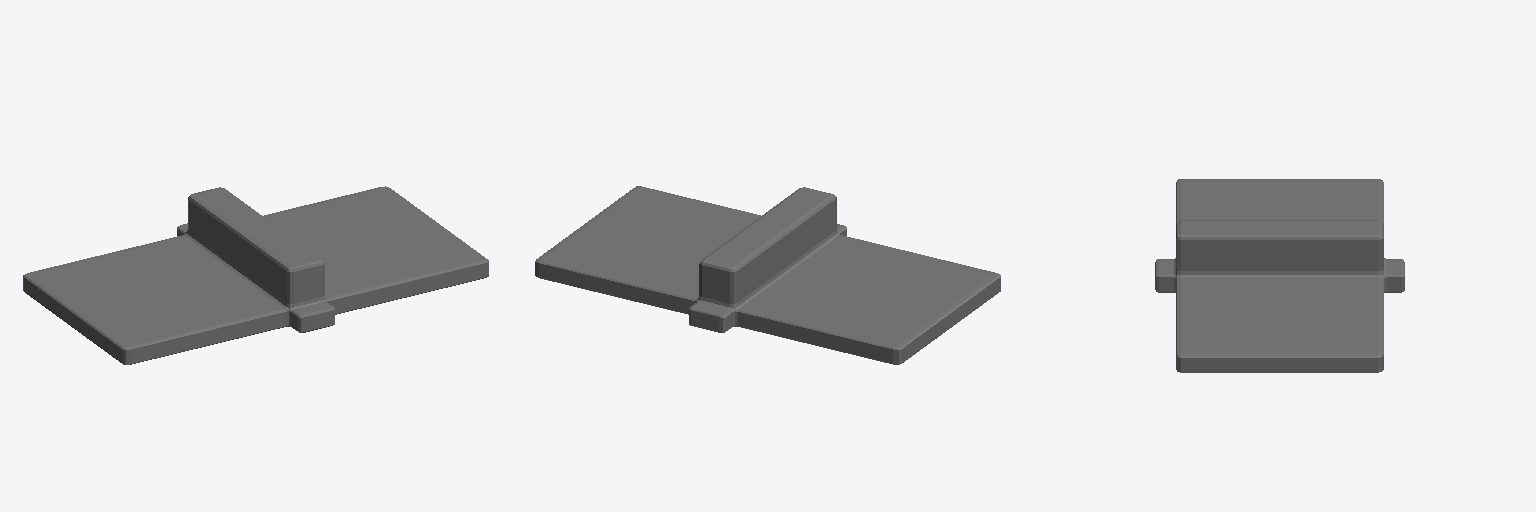
Rendered from container.obj.
3 views of the same model, side by side, from view 1: azimuth 30°, elevation 25°; view 2: azimuth 150°, elevation 25°; view 3: azimuth 270°, elevation 25° (orthographic).
Parts seen in each view (by area): view 1: pCube1; view 2: pCube1; view 3: pCube1.
Boxes of the visible parts, x1,y1,x2,y2 form: pCube1: [23, 186, 488, 364]; pCube1: [535, 186, 1000, 364]; pCube1: [1155, 179, 1404, 372].
Size of the model in its own units: 1452 by 216 by 856.